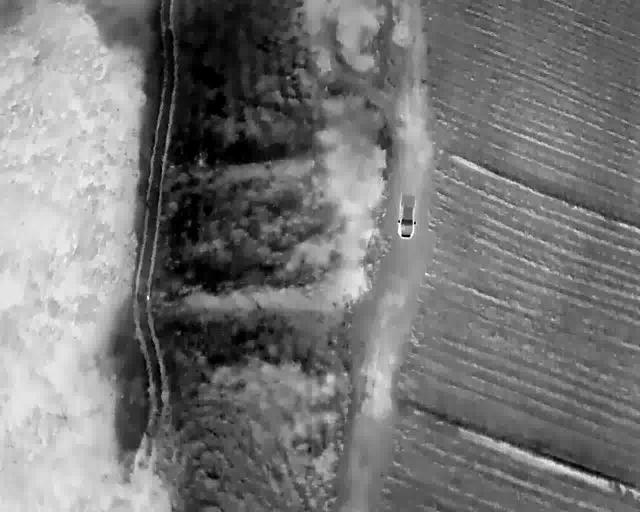car: (397, 196, 416, 239)
